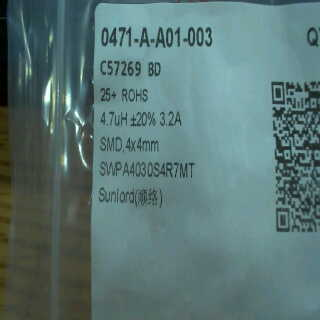4.7uH: (94, 107, 130, 130)
